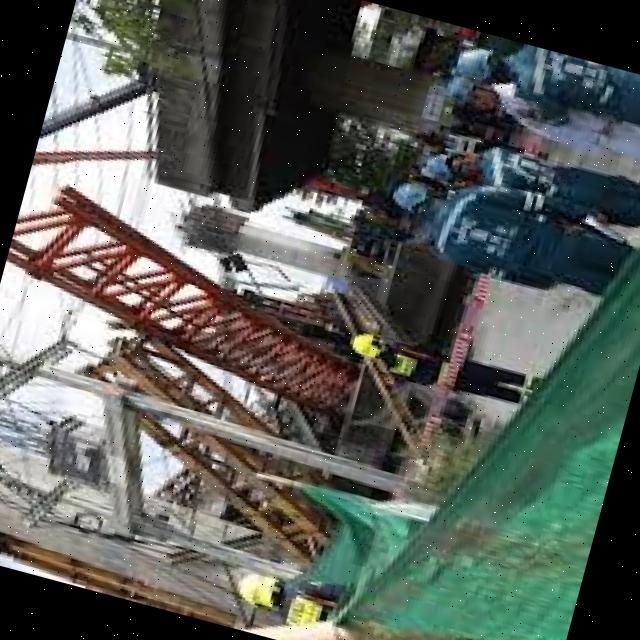bridge collapse: (0, 15, 493, 539)
